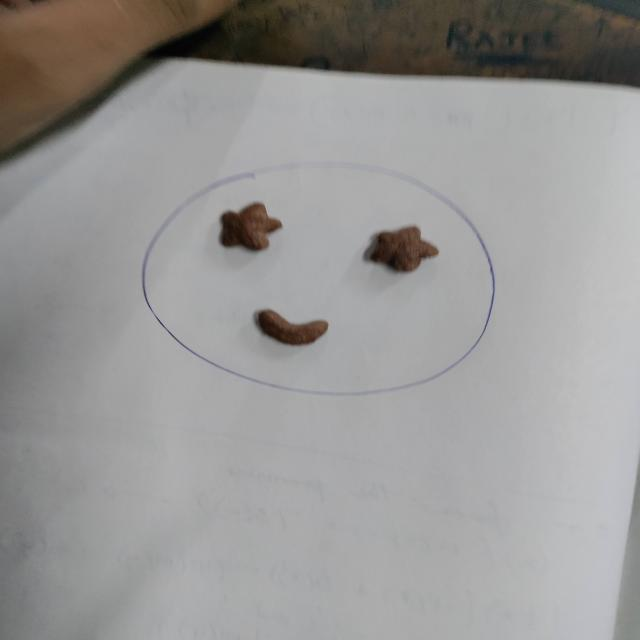paper: (155, 129, 510, 509)
